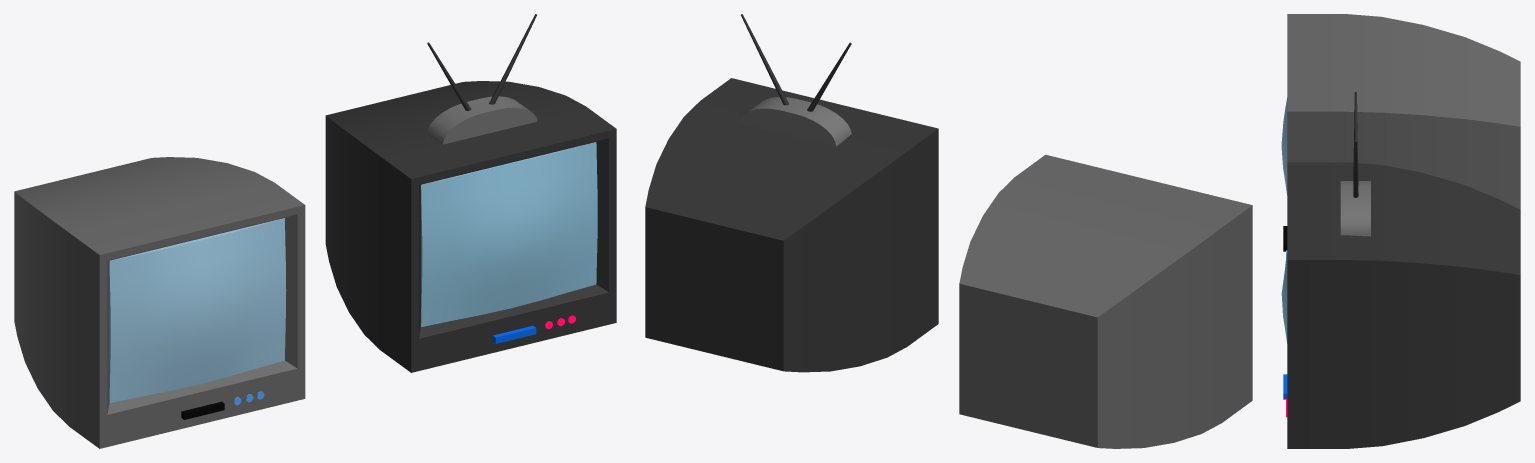
File: tvs.fbx
The picture shows the model from 3 angles, left to right: view 1: azimuth 30°, elevation 25°; view 2: azimuth 150°, elevation 25°; view 3: azimuth 270°, elevation 25°; orthographic projection. The views are drawn at different scales.
Visible parts, largest first — view 1: Cube.064, Cube.065, Cube.072, Cube.068, Cube.069, Cylinder; view 2: Cube.064, Cube.065, Cube.069, Cylinder; view 3: Cube.065, Cube.064, Cube.069, Cylinder, Cube.072, Cube.068.
Boxes of the visible parts, x1,y1,x2,y2 form: Cube.064: (14,157,305,448); Cube.065: (325,81,616,372); Cube.072: (109,218,286,403); Cube.068: (421,142,597,327); Cube.069: (427,96,537,144); Cylinder: (427,14,536,110); Cube.064: (959,154,1252,448); Cube.065: (645,78,938,372); Cube.069: (740,97,851,146); Cylinder: (741,14,851,111); Cube.065: (1287,162,1520,448); Cube.064: (1287,14,1520,209); Cube.069: (1340,181,1370,236); Cylinder: (1353,92,1358,197); Cube.072: (1281,97,1287,195); Cube.068: (1281,252,1287,343).
Bounding box in the file's own units: 108 × 58.44 × 44.15.
